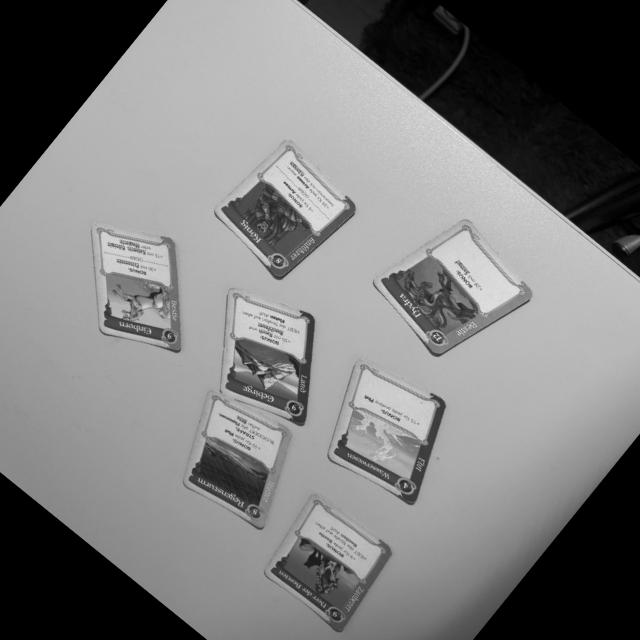Beast Master: (259, 491, 398, 640)
Hydra: (365, 212, 536, 359)
King: (212, 135, 365, 288)
Mountain: (217, 287, 311, 427)
Rainstorm: (185, 390, 299, 536)
Unicorn: (90, 222, 182, 356)
Water Elemental: (324, 354, 453, 514)
